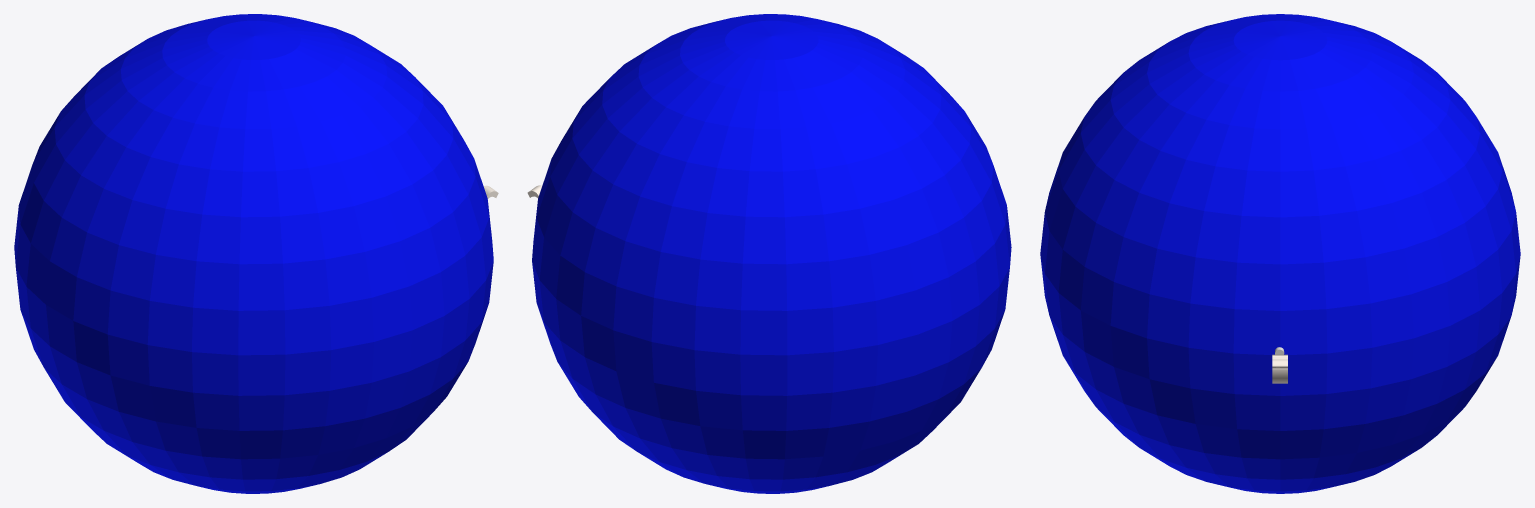
Rendered from 3. Bola.fbx.
3 renders of one model, left to right at view 1: azimuth 30°, elevation 25°; view 2: azimuth 150°, elevation 25°; view 3: azimuth 270°, elevation 25°, orthographic.
Visible parts, largest first — view 1: Sphere; view 2: Sphere; view 3: Sphere.
Boxes of the visible parts, x1=… form: Sphere: x1=14, y1=14, x2=493, y2=493; Sphere: x1=532, y1=14, x2=1011, y2=493; Sphere: x1=1040, y1=14, x2=1520, y2=493.
Bounding box in the file's own units: 800 × 742 × 742.
